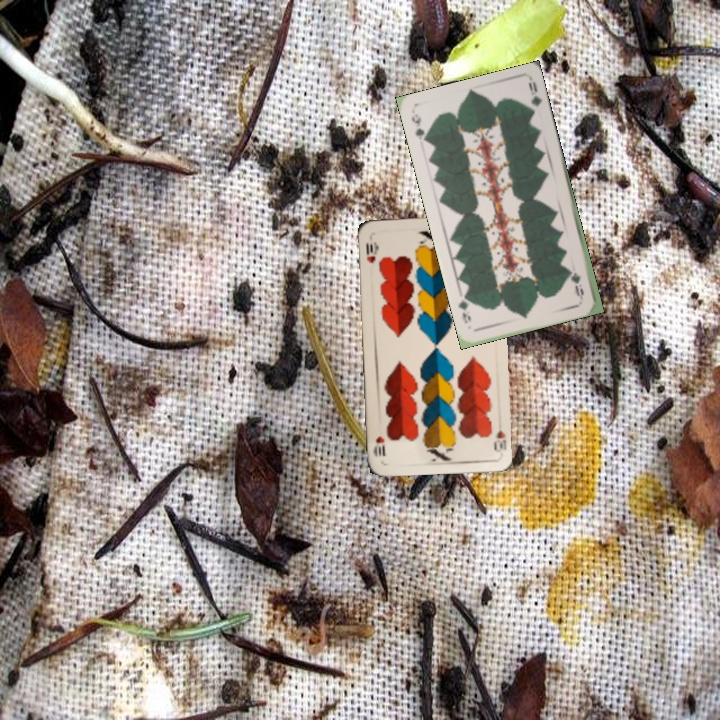G9: (407, 109, 431, 146), (569, 268, 586, 301)
H10: (362, 238, 380, 266), (490, 426, 508, 453)
